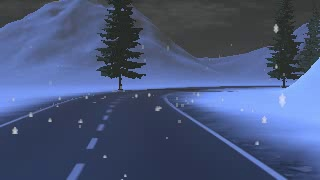Lane: (0, 85, 287, 179)
